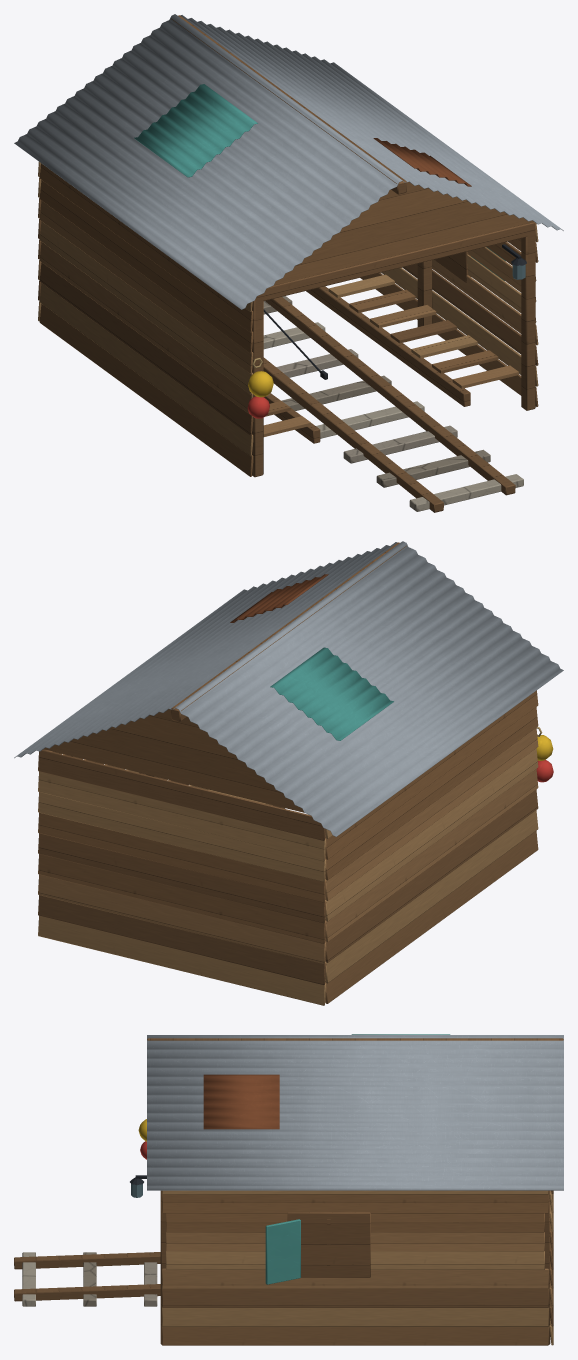
The model's file is boathouse_shack.glb.
3 renders of one model, top to bottom at view 1: azimuth 30°, elevation 25°; view 2: azimuth 150°, elevation 25°; view 3: azimuth 270°, elevation 25°, orthographic. The views are drawn at different scales.
Visible parts, largest first — view 1: boathouse_shack; view 2: boathouse_shack; view 3: boathouse_shack.
Part boxes in pixels (x1=…): boathouse_shack: x1=14, y1=14, x2=563, y2=512; boathouse_shack: x1=14, y1=541, x2=563, y2=1005; boathouse_shack: x1=14, y1=1034, x2=563, y2=1345.
Size of the model in its own units: 4.6 by 3.6 by 7.25.
Materials: 34 (34 with a texture image).
